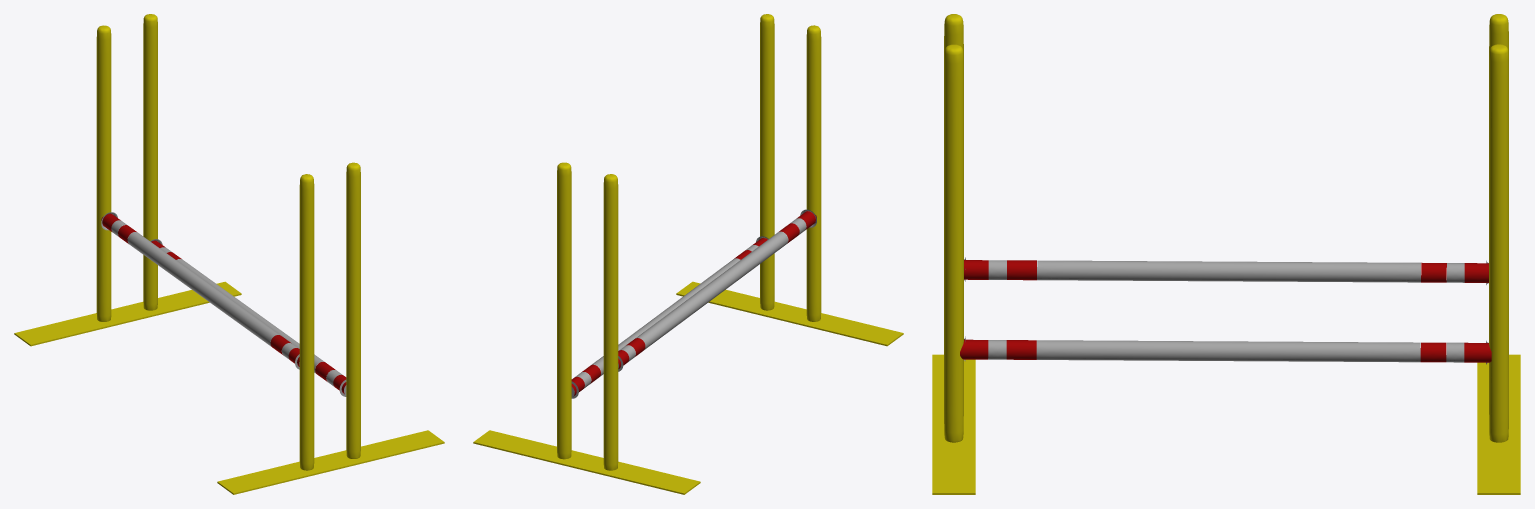
File: jumpBar.gltf
3 views of the same model, side by side, from view 1: azimuth 30°, elevation 25°; view 2: azimuth 150°, elevation 25°; view 3: azimuth 270°, elevation 25° (orthographic). The views are drawn at different scales.
Visible parts, largest first — view 1: Plane (×2), Cylinder.2, Cylinder.3, Cylinder, Cylinder.5 (×2), Cylinder.1, Cylinder.5-Mat (×2); view 2: Plane (×2), Cylinder.3, Cylinder.2, Cylinder.1, Cylinder.5 (×2), Cylinder, Cylinder.5-Mat (×2); view 3: Cylinder.5 (×2), Plane (×2), Cylinder.1, Cylinder, Cylinder.5-Mat (×2), Cylinder.3, Cylinder.2.
Boxes of the visible parts, bbox=[...] form: Plane (×2): bbox=[14, 281, 444, 494]; Cylinder.2: bbox=[299, 174, 314, 470]; Cylinder.3: bbox=[96, 25, 111, 321]; Cylinder: bbox=[346, 162, 360, 458]; Cylinder.5 (×2): bbox=[101, 212, 346, 396]; Cylinder.1: bbox=[143, 14, 157, 310]; Cylinder.5-Mat (×2): bbox=[101, 213, 346, 394]; Plane (×2): bbox=[473, 281, 903, 494]; Cylinder.3: bbox=[603, 174, 618, 470]; Cylinder.2: bbox=[806, 25, 821, 321]; Cylinder.1: bbox=[557, 162, 571, 459]; Cylinder.5 (×2): bbox=[571, 209, 816, 398]; Cylinder: bbox=[760, 14, 774, 310]; Cylinder.5-Mat (×2): bbox=[571, 211, 816, 396]; Cylinder.5 (×2): bbox=[964, 257, 1488, 364]; Plane (×2): bbox=[932, 354, 1520, 494]; Cylinder.1: bbox=[1489, 44, 1508, 442]; Cylinder: bbox=[944, 44, 963, 442]; Cylinder.5-Mat (×2): bbox=[960, 260, 1491, 362]; Cylinder.3: bbox=[1489, 14, 1508, 74]; Cylinder.2: bbox=[944, 14, 963, 71].
Size of the model in its own units: 15 by 20 by 27.
